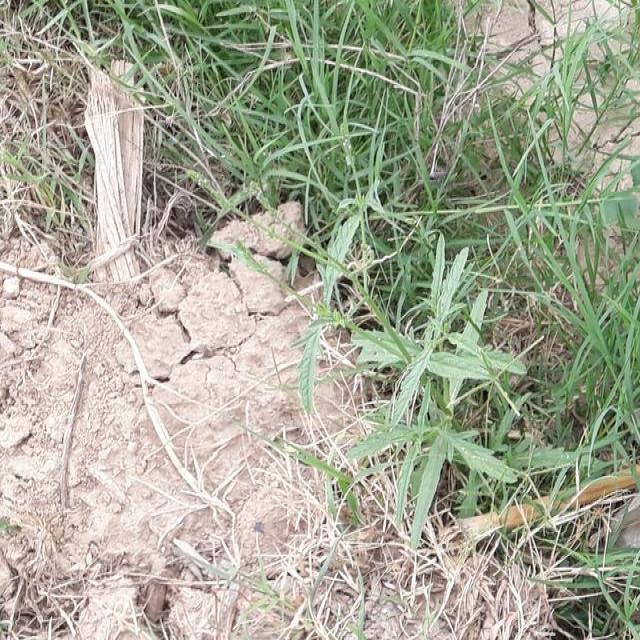weed: (267, 266, 640, 640), (4, 7, 534, 236)
